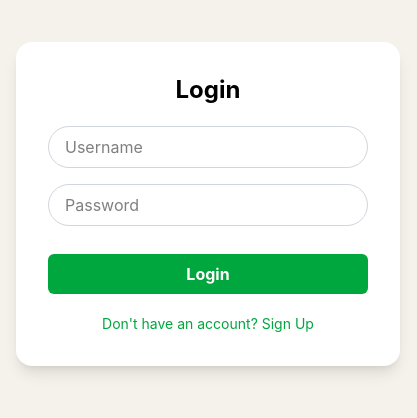
Scenario: AuthForm › shows the server error message on failure
The width and height of the screenshot is (417, 418).
In the field with placeholder "Username": (208, 147) [48, 126, 368, 168], type "x"
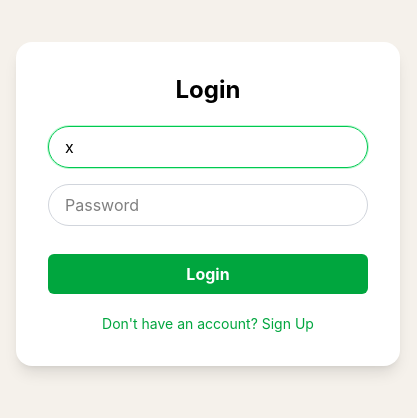
Click the button "Login": (208, 274) [48, 254, 368, 294]
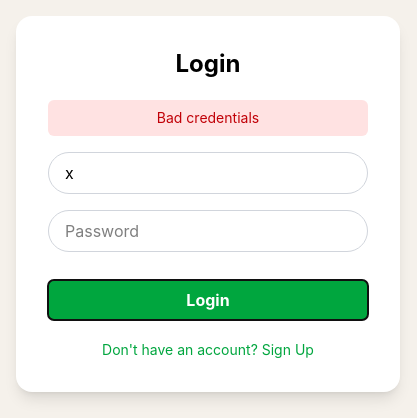
Result: the text "Bad credentials" is shown at [48, 100, 368, 136]
